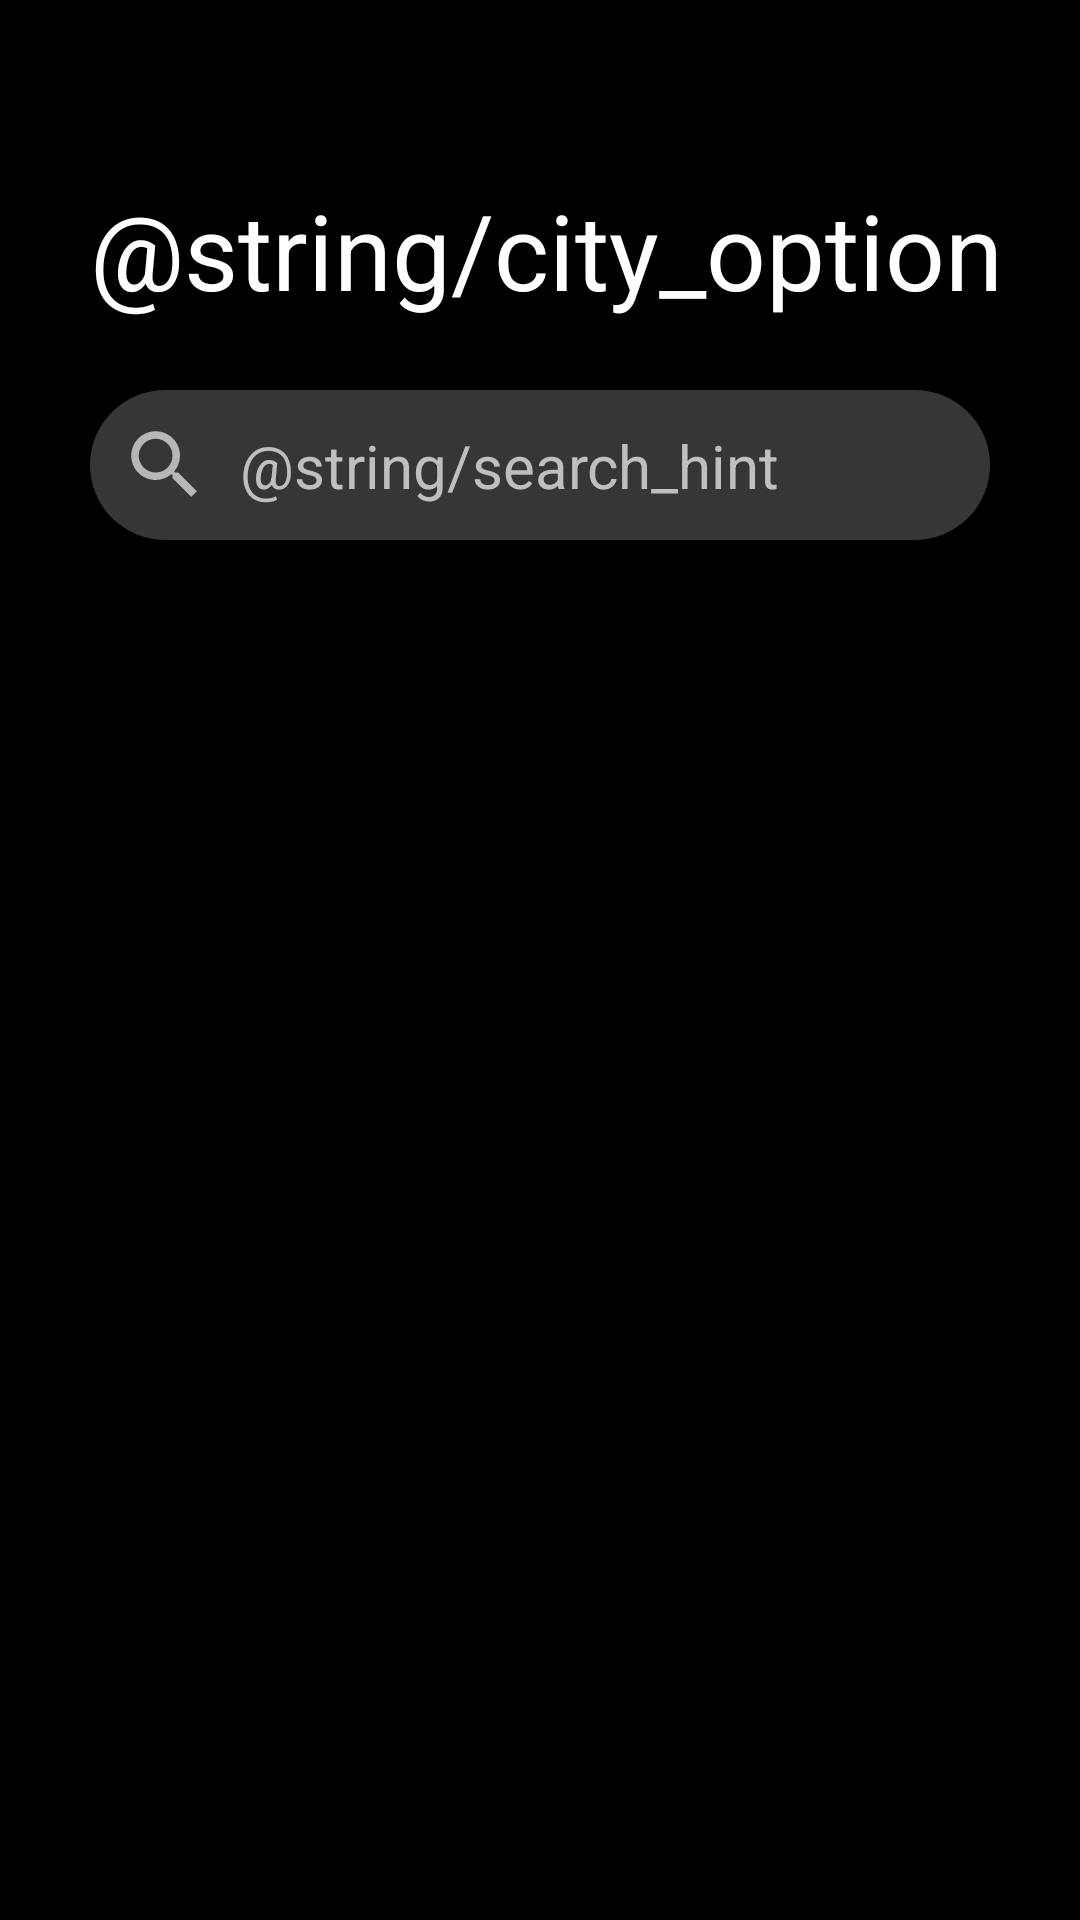

Icon click points for this 1080x1920 phone screenshot, format (x,y):
search: (164,464)
